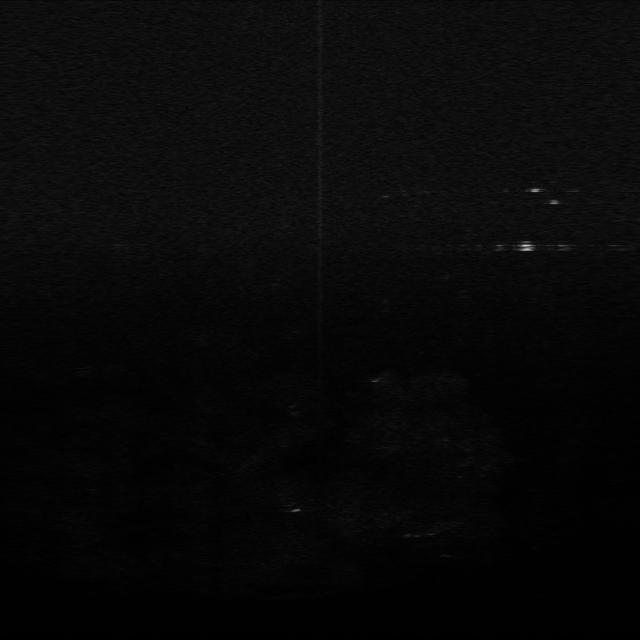rov: (516, 240, 536, 256)
